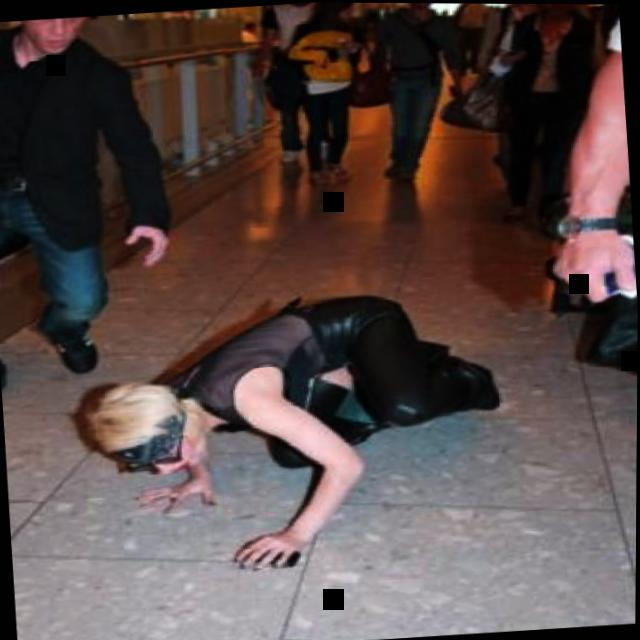Fall-Detected: (52, 261, 525, 593)
